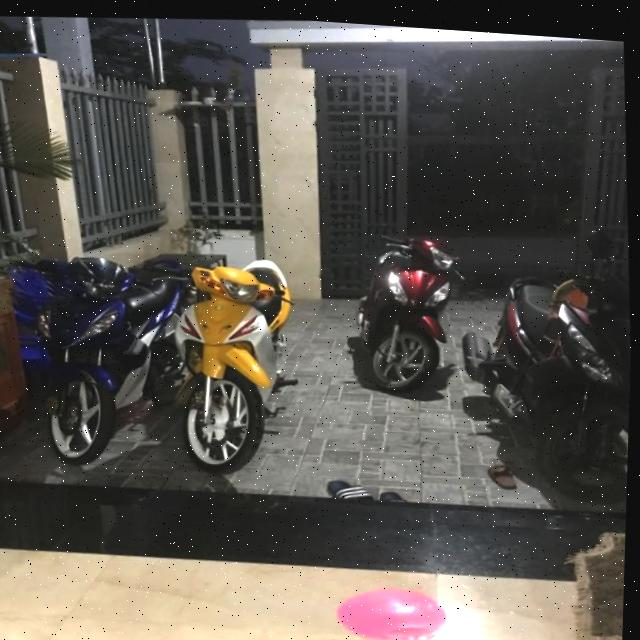motorcycle: (457, 244, 634, 509), (0, 240, 184, 484), (163, 246, 312, 480), (347, 227, 454, 402)
